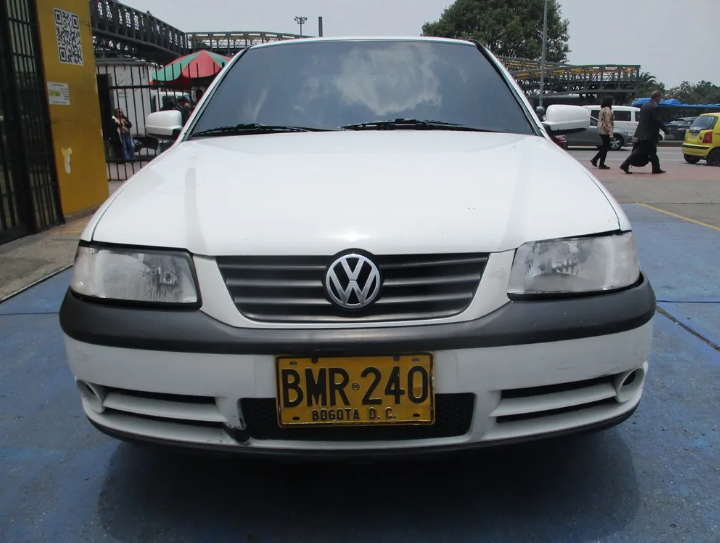placa: (272, 352, 439, 430)
